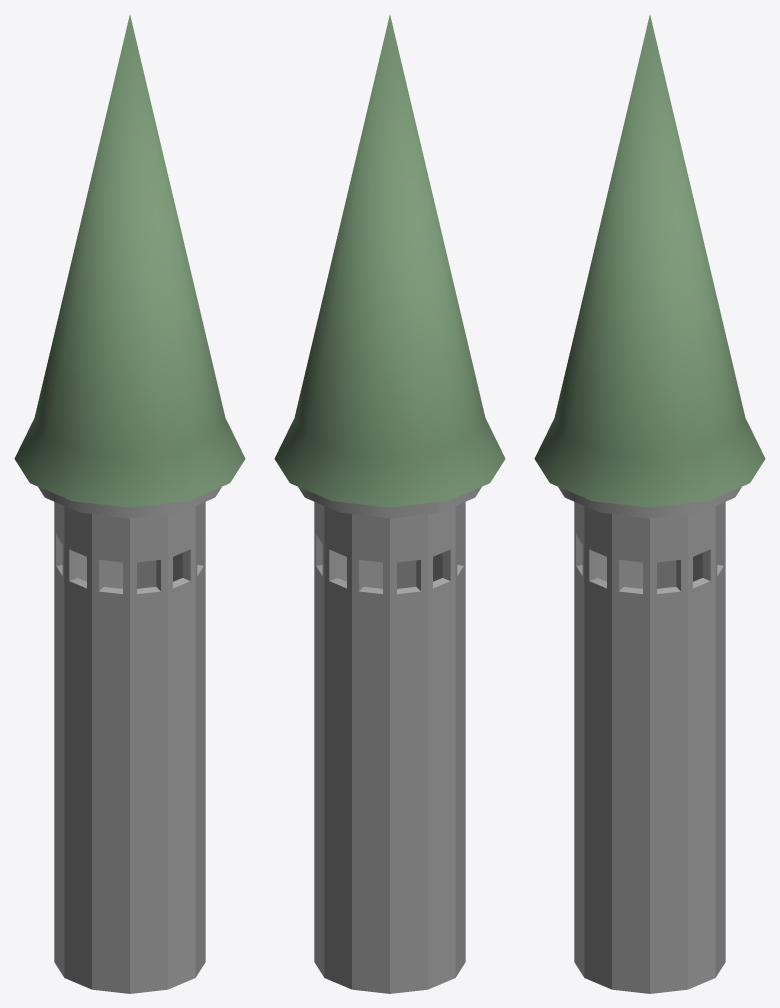
Rendered from Bcastle.fbx.
3 views of the same model, side by side, from view 1: azimuth 30°, elevation 25°; view 2: azimuth 150°, elevation 25°; view 3: azimuth 270°, elevation 25° (orthographic).
Parts seen in each view (by area): view 1: pCylinder8; view 2: pCylinder8; view 3: pCylinder8.
Part boxes in pixels (bbox=[...]): pCylinder8: bbox=[14, 15, 245, 993]; pCylinder8: bbox=[274, 15, 505, 993]; pCylinder8: bbox=[534, 15, 765, 993].
Size of the model in its own units: 610 by 2761 by 610.
